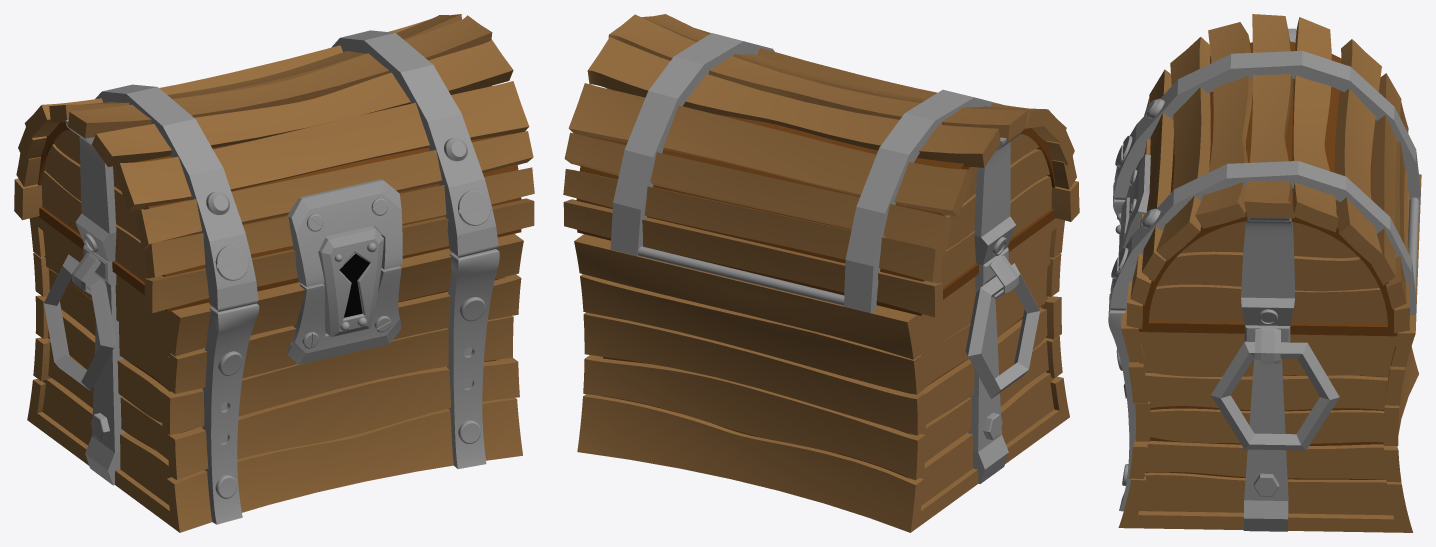
Rendered from chest.glb.
3 views of the same model, side by side, from view 1: azimuth 30°, elevation 25°; view 2: azimuth 150°, elevation 25°; view 3: azimuth 270°, elevation 25° (orthographic). The views are drawn at different scales.
Visible parts, largest first — view 1: Object_3, Object_4, Object_5, Object_6, Object_2; view 2: Object_3, Object_4, Object_5, Object_6; view 3: Object_3, Object_4, Object_6, Object_5.
Part boxes in pixels (x1=…): Object_3: x1=14, y1=14, x2=534, y2=532; Object_4: x1=85, y1=30, x2=499, y2=485; Object_5: x1=44, y1=119, x2=254, y2=524; Object_6: x1=38, y1=85, x2=521, y2=449; Object_2: x1=339, y1=253, x2=369, y2=317; Object_3: x1=563, y1=14, x2=1079, y2=532; Object_4: x1=610, y1=33, x2=1008, y2=483; Object_5: x1=965, y1=130, x2=1039, y2=398; Object_6: x1=576, y1=88, x2=1055, y2=477; Object_3: x1=1118, y1=14, x2=1421, y2=532; Object_4: x1=1108, y1=51, x2=1420, y2=531; Object_6: x1=1139, y1=41, x2=1397, y2=479; Object_5: x1=1119, y1=28, x2=1339, y2=450.
Size of the model in its own units: 596 by 524 by 425.
